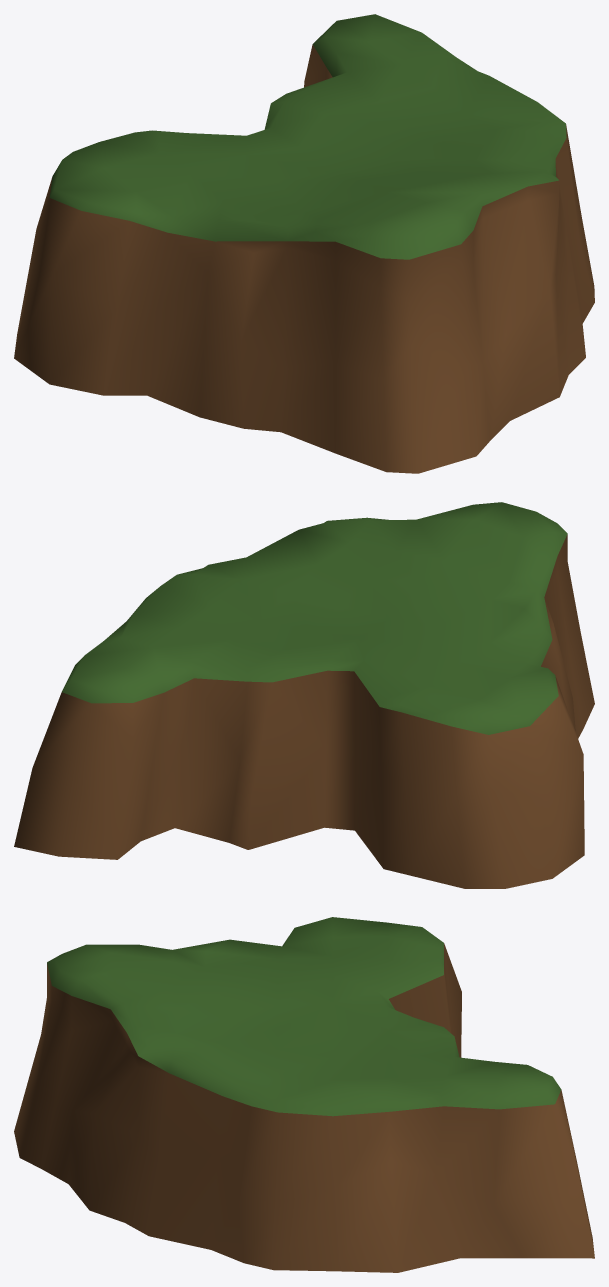
The model's file is Island03.fbx.
The picture shows the model from 3 angles, top to bottom: view 1: azimuth 30°, elevation 25°; view 2: azimuth 150°, elevation 25°; view 3: azimuth 270°, elevation 25°; orthographic projection. The views are drawn at different scales.
Visible parts, largest first — view 1: Island03_Cliffside, Island03_Grass; view 2: Island03_Cliffside, Island03_Grass; view 3: Island03_Cliffside, Island03_Grass.
Boxes of the visible parts, bbox=[...] form: Island03_Cliffside: bbox=[14, 44, 594, 473]; Island03_Grass: bbox=[49, 14, 566, 259]; Island03_Cliffside: bbox=[14, 534, 594, 888]; Island03_Grass: bbox=[62, 502, 567, 734]; Island03_Cliffside: bbox=[14, 943, 594, 1272]; Island03_Grass: bbox=[47, 917, 561, 1116].
Bounding box in the file's own units: 94.06 × 37.42 × 105.
